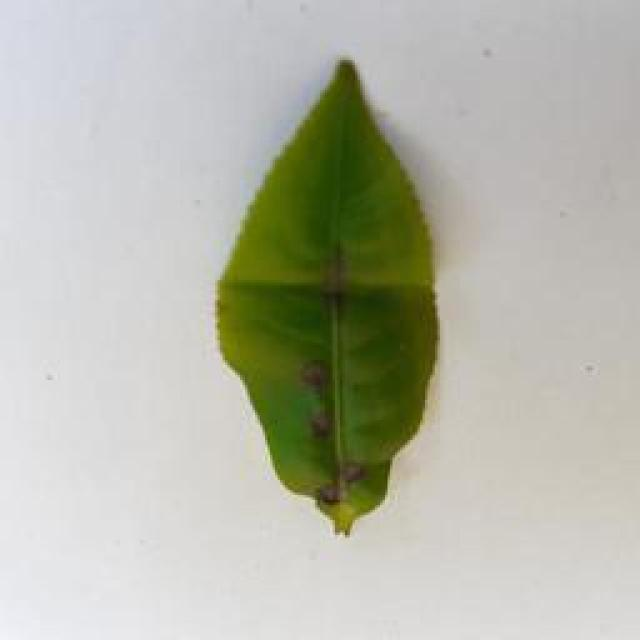Helopeltis: (214, 51, 452, 546)
